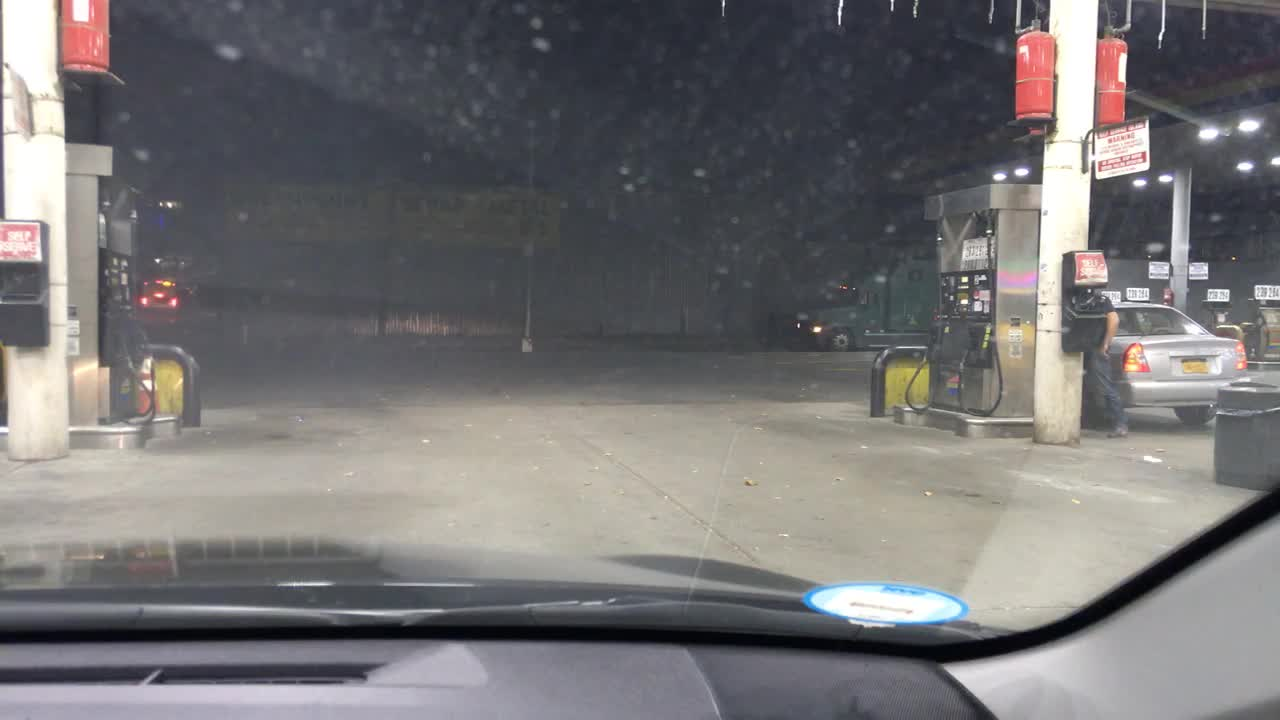car: (1096, 298, 1249, 426), (138, 253, 221, 329)
person: (1072, 284, 1129, 439), (1100, 287, 1123, 304), (1125, 287, 1149, 301)
traffic sign: (1091, 119, 1151, 178), (1150, 260, 1173, 279), (1189, 261, 1210, 281), (1254, 284, 1278, 301), (1207, 290, 1232, 302)
truck: (792, 233, 938, 351)
